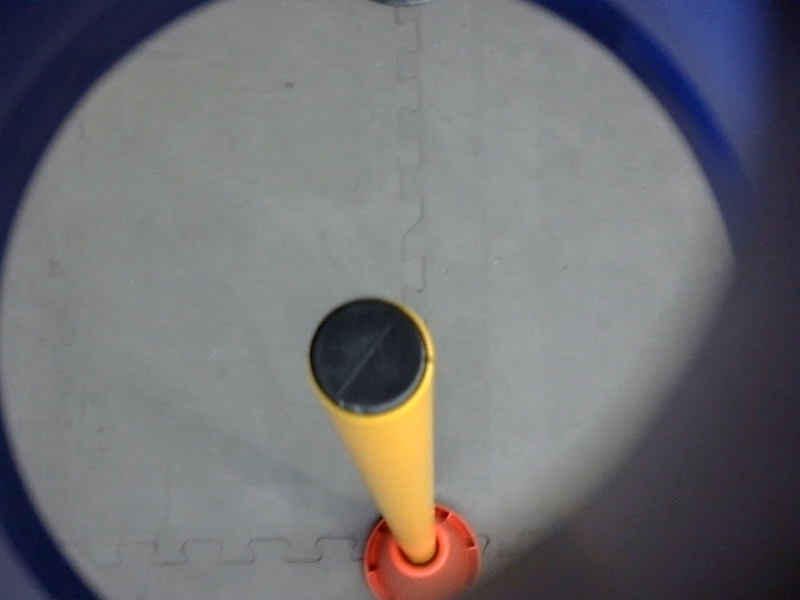tip: (295, 285, 444, 429)
